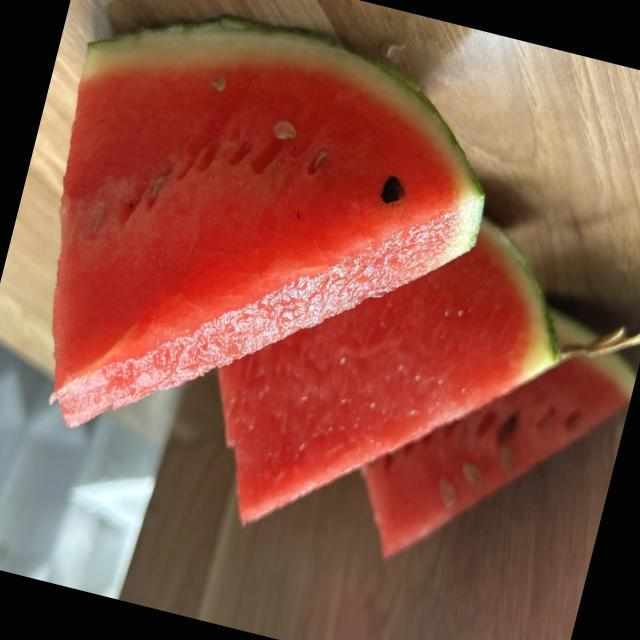dua hau: (52, 19, 484, 426), (218, 218, 563, 523), (361, 355, 635, 557)
